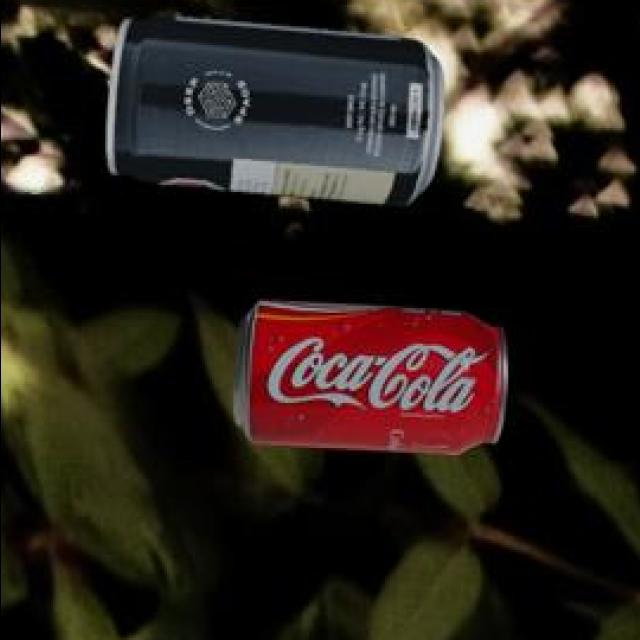logam: (110, 13, 447, 203), (236, 297, 511, 452)
